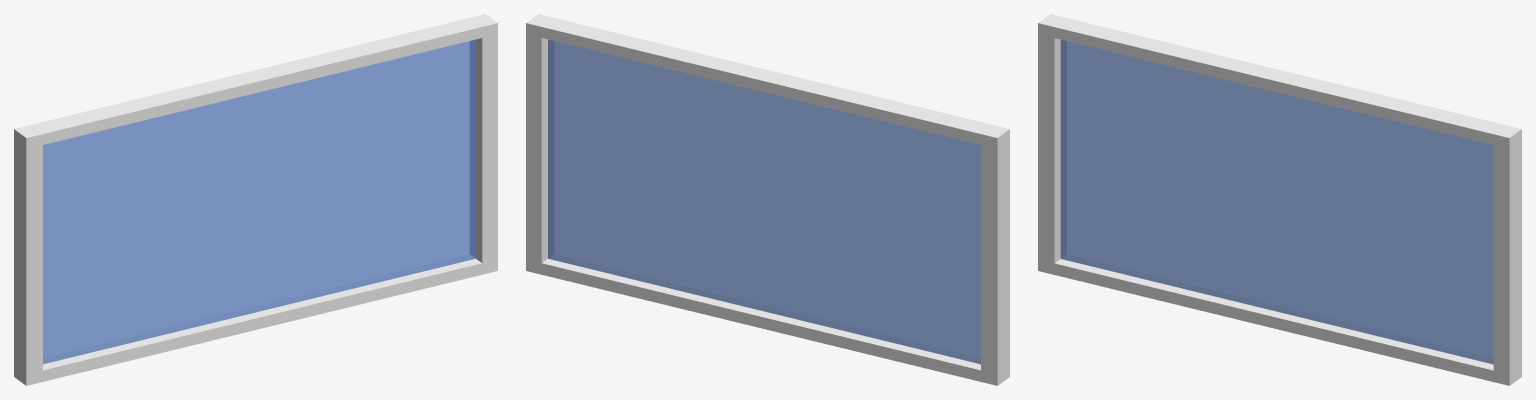
The model's file is glassWall.dae.
3 renders of one model, left to right at view 1: azimuth 30°, elevation 25°; view 2: azimuth 150°, elevation 25°; view 3: azimuth 330°, elevation 25°, orthographic.
Visible parts, largest first — view 1: SketchUp (×5); view 2: SketchUp (×4); view 3: SketchUp (×4).
Boxes of the visible parts, x1=… form: SketchUp (×5): x1=14, y1=14, x2=497, y2=385; SketchUp (×4): x1=526, y1=14, x2=1009, y2=385; SketchUp (×4): x1=1038, y1=14, x2=1521, y2=385.
Bounding box in the file's own units: 172 × 7.87 × 86.61.
